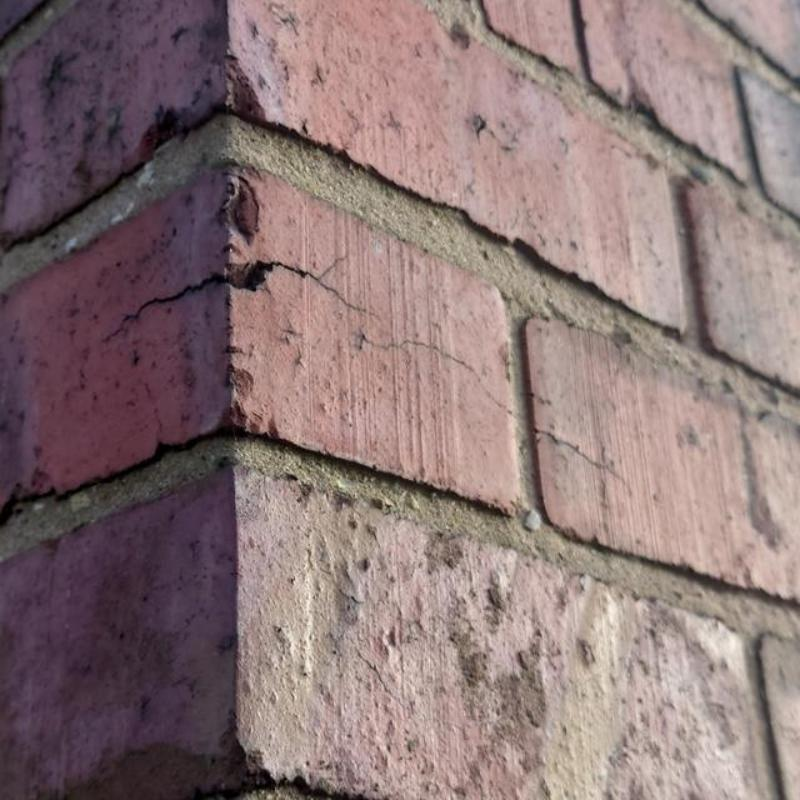pothole: (99, 249, 381, 344), (358, 326, 514, 415), (534, 427, 634, 496)
